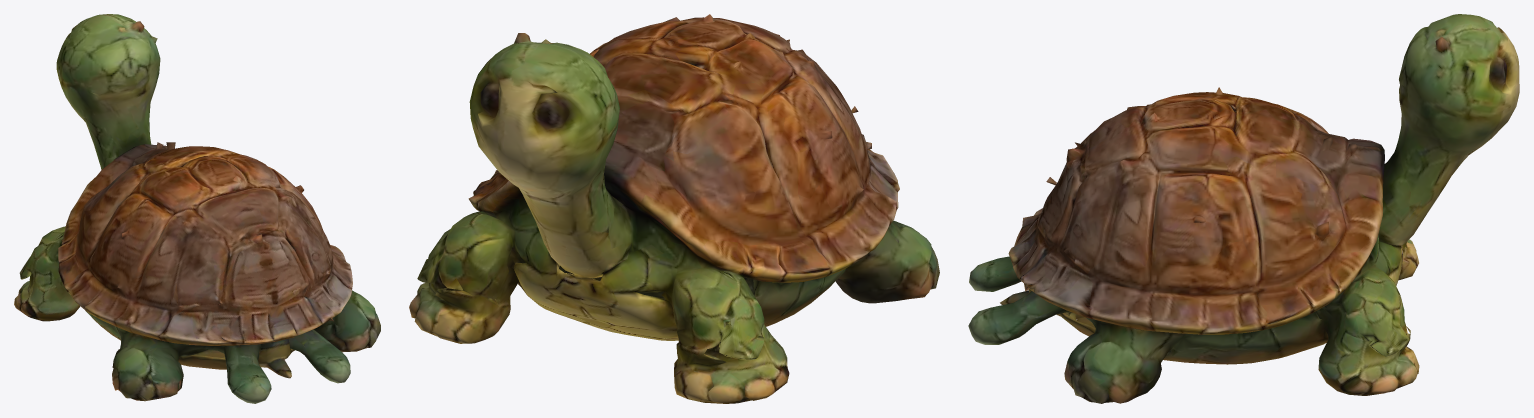
File: tortoise.glb
The picture shows the model from 3 angles, left to right: view 1: azimuth 30°, elevation 25°; view 2: azimuth 150°, elevation 25°; view 3: azimuth 270°, elevation 25°; orthographic projection. The views are drawn at different scales.
Parts seen in each view (by area): view 1: tripo_node_820d4ce0-0cdd-4b1b-bd7d-84f7dabdea59; view 2: tripo_node_820d4ce0-0cdd-4b1b-bd7d-84f7dabdea59; view 3: tripo_node_820d4ce0-0cdd-4b1b-bd7d-84f7dabdea59.
Part boxes in pixels (bbox=[...]): tripo_node_820d4ce0-0cdd-4b1b-bd7d-84f7dabdea59: bbox=[14, 14, 380, 403]; tripo_node_820d4ce0-0cdd-4b1b-bd7d-84f7dabdea59: bbox=[409, 14, 939, 403]; tripo_node_820d4ce0-0cdd-4b1b-bd7d-84f7dabdea59: bbox=[968, 14, 1519, 403].
Bounding box in the file's own units: 0.684 × 0.6273 × 1.
1 material, 1 textured.
